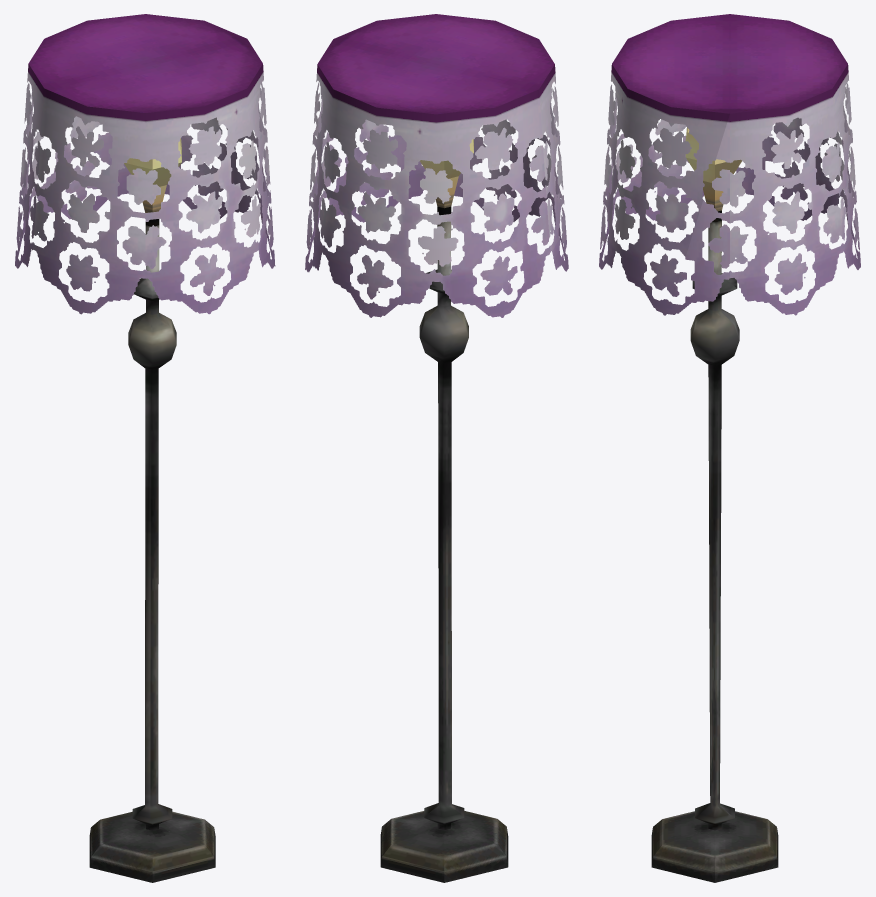
Rendered from furni_0201103_01.FBX.
The picture shows the model from 3 angles, left to right: view 1: azimuth 30°, elevation 25°; view 2: azimuth 150°, elevation 25°; view 3: azimuth 270°, elevation 25°; orthographic projection.
Visible parts, largest first — view 1: furni_0201103_01; view 2: furni_0201103_01; view 3: furni_0201103_01.
Boxes of the visible parts, left/top/right/bottom form: furni_0201103_01: left=15, top=14, right=275, bottom=882; furni_0201103_01: left=305, top=14, right=568, bottom=882; furni_0201103_01: left=599, top=14, right=860, bottom=882.
Bounding box in the file's own units: 50 × 165 × 50.
Materials: 1 (1 with a texture image).
